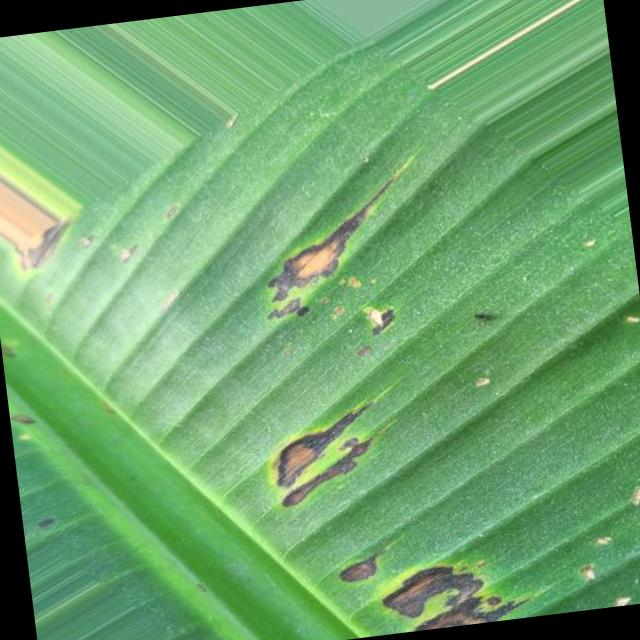Banana_Black_Sigatoka: (194, 174, 436, 366), (252, 366, 414, 514), (320, 532, 500, 638)
